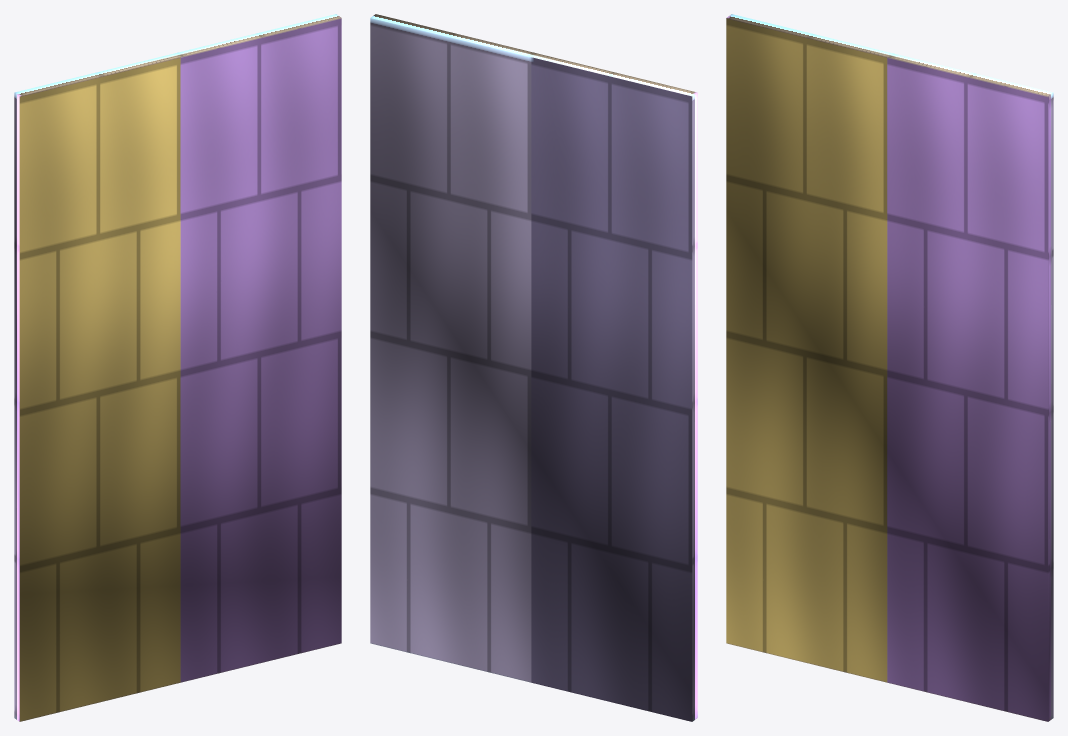
File: banner.glb
3 views of the same model, side by side, from view 1: azimuth 30°, elevation 25°; view 2: azimuth 150°, elevation 25°; view 3: azimuth 330°, elevation 25° (orthographic).
Visible parts, largest first — view 1: col; view 2: col; view 3: col.
Boxes of the visible parts, x1,y1,x2,y2 form: col: (14, 14, 341, 721); col: (370, 14, 697, 721); col: (726, 14, 1053, 721).
Size of the model in its own units: 1.04 by 1.92 by 0.03.
1 material, 1 textured.
